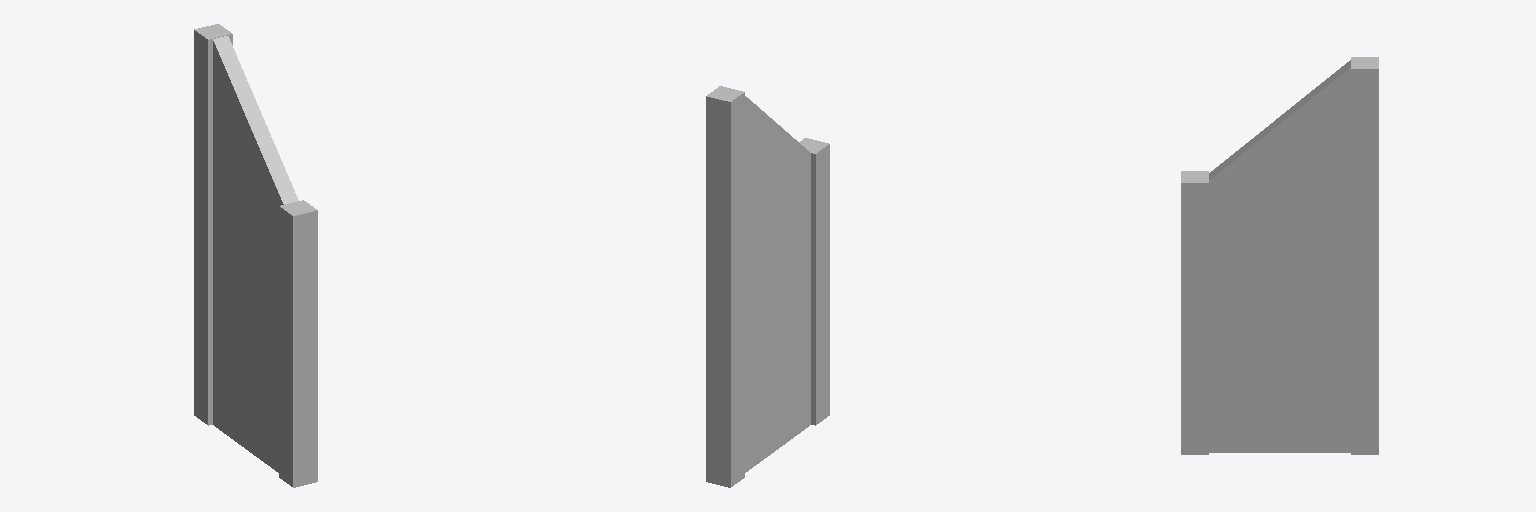
File: dungeon_wall_mid.obj
3 views of the same model, side by side, from view 1: azimuth 30°, elevation 25°; view 2: azimuth 150°, elevation 25°; view 3: azimuth 270°, elevation 25° (orthographic).
Visible parts, largest first — view 1: wall, pillar; view 2: wall, pillar; view 3: wall, pillar.
Part boxes in pixels (x1,y1,x2,y2): wall: (213, 36, 298, 472); pillar: (194, 24, 317, 487); wall: (745, 96, 810, 472); pillar: (706, 86, 829, 487); wall: (1209, 60, 1350, 452); pillar: (1181, 57, 1378, 454).
Size of the model in its own units: 1 by 15.02 by 7.